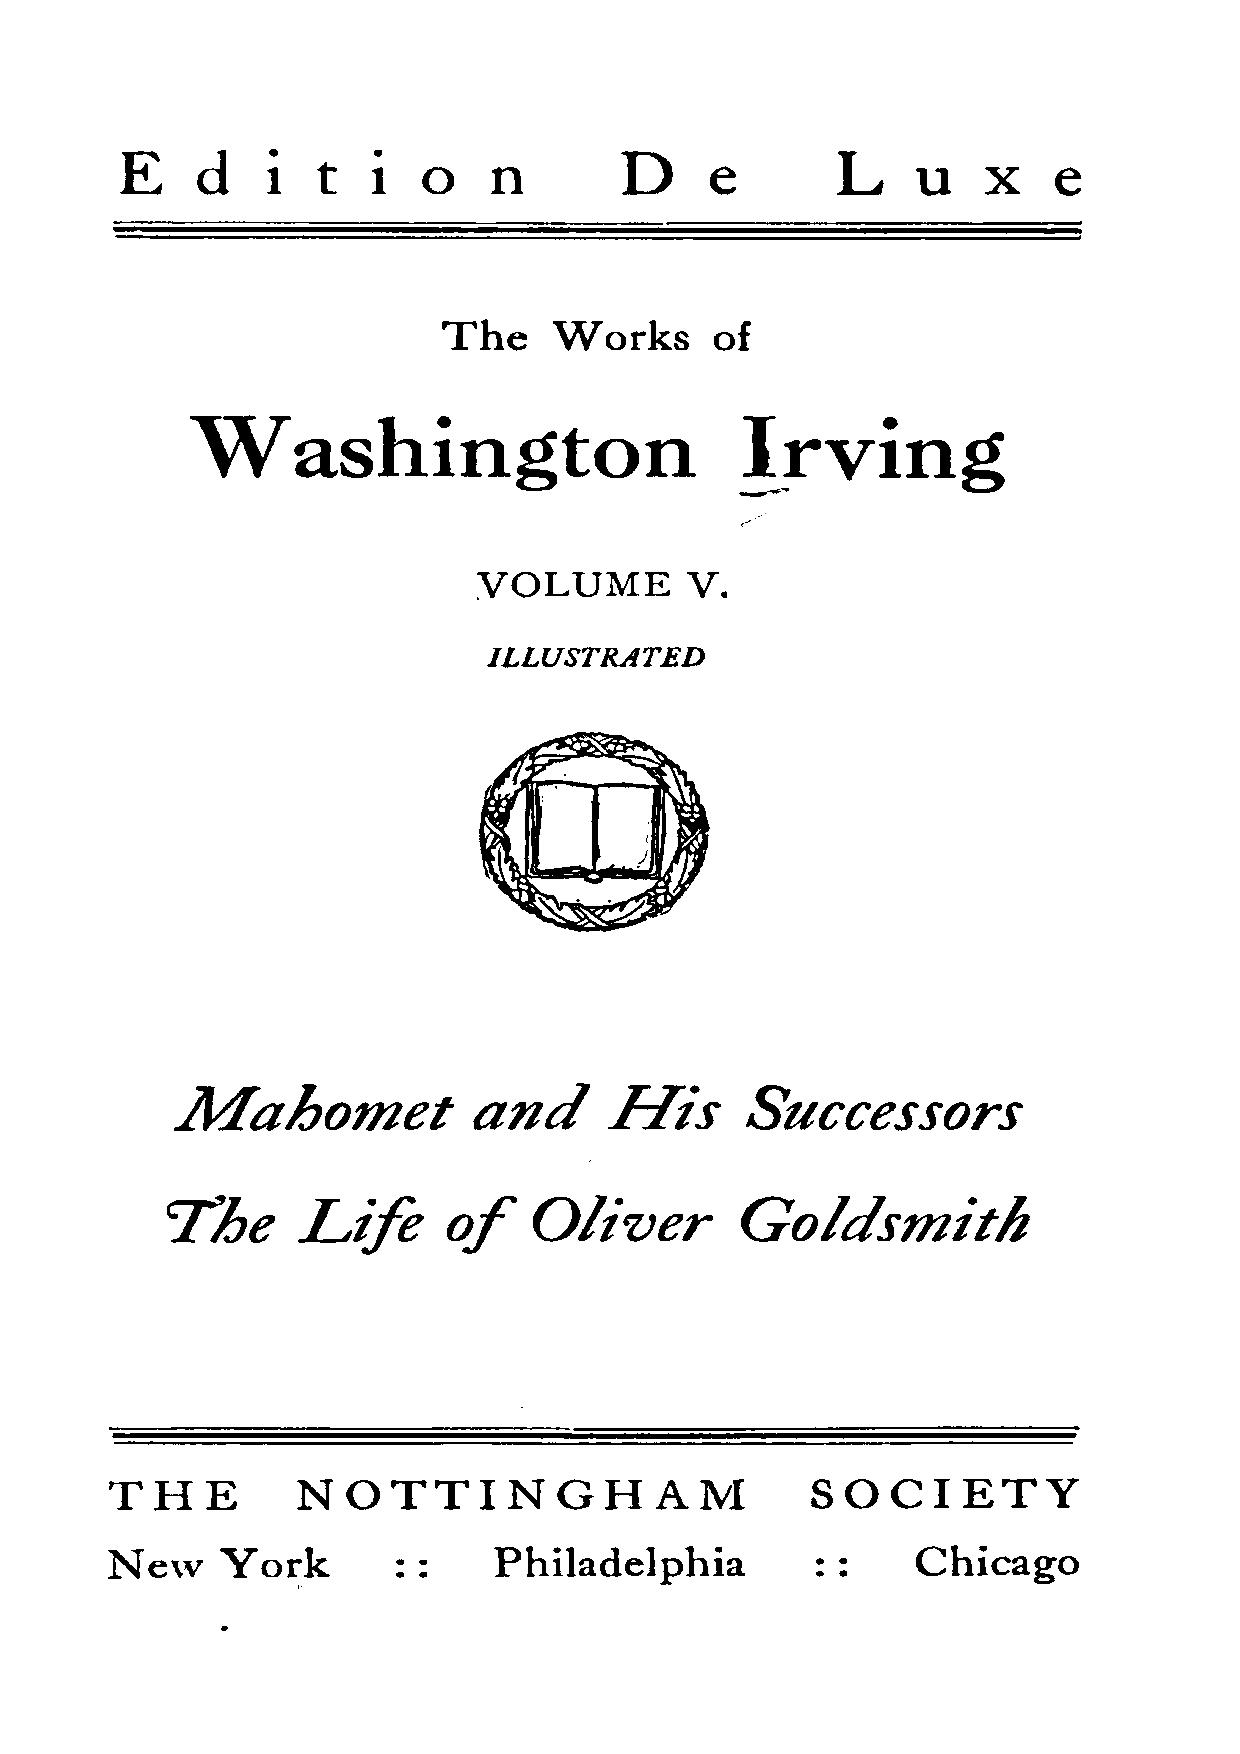author: (161, 1079, 1033, 1257)
title: (183, 317, 1006, 495)
